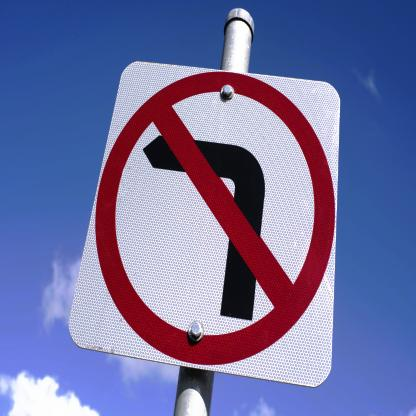No left turn: (93, 61, 335, 370)
